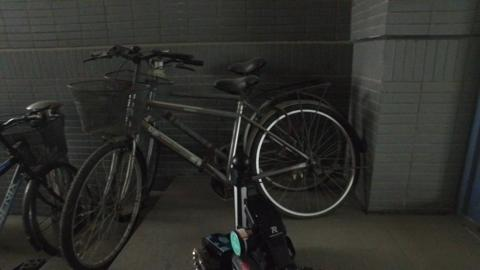bike: (53, 34, 361, 259)
chariot: (189, 152, 302, 270)
